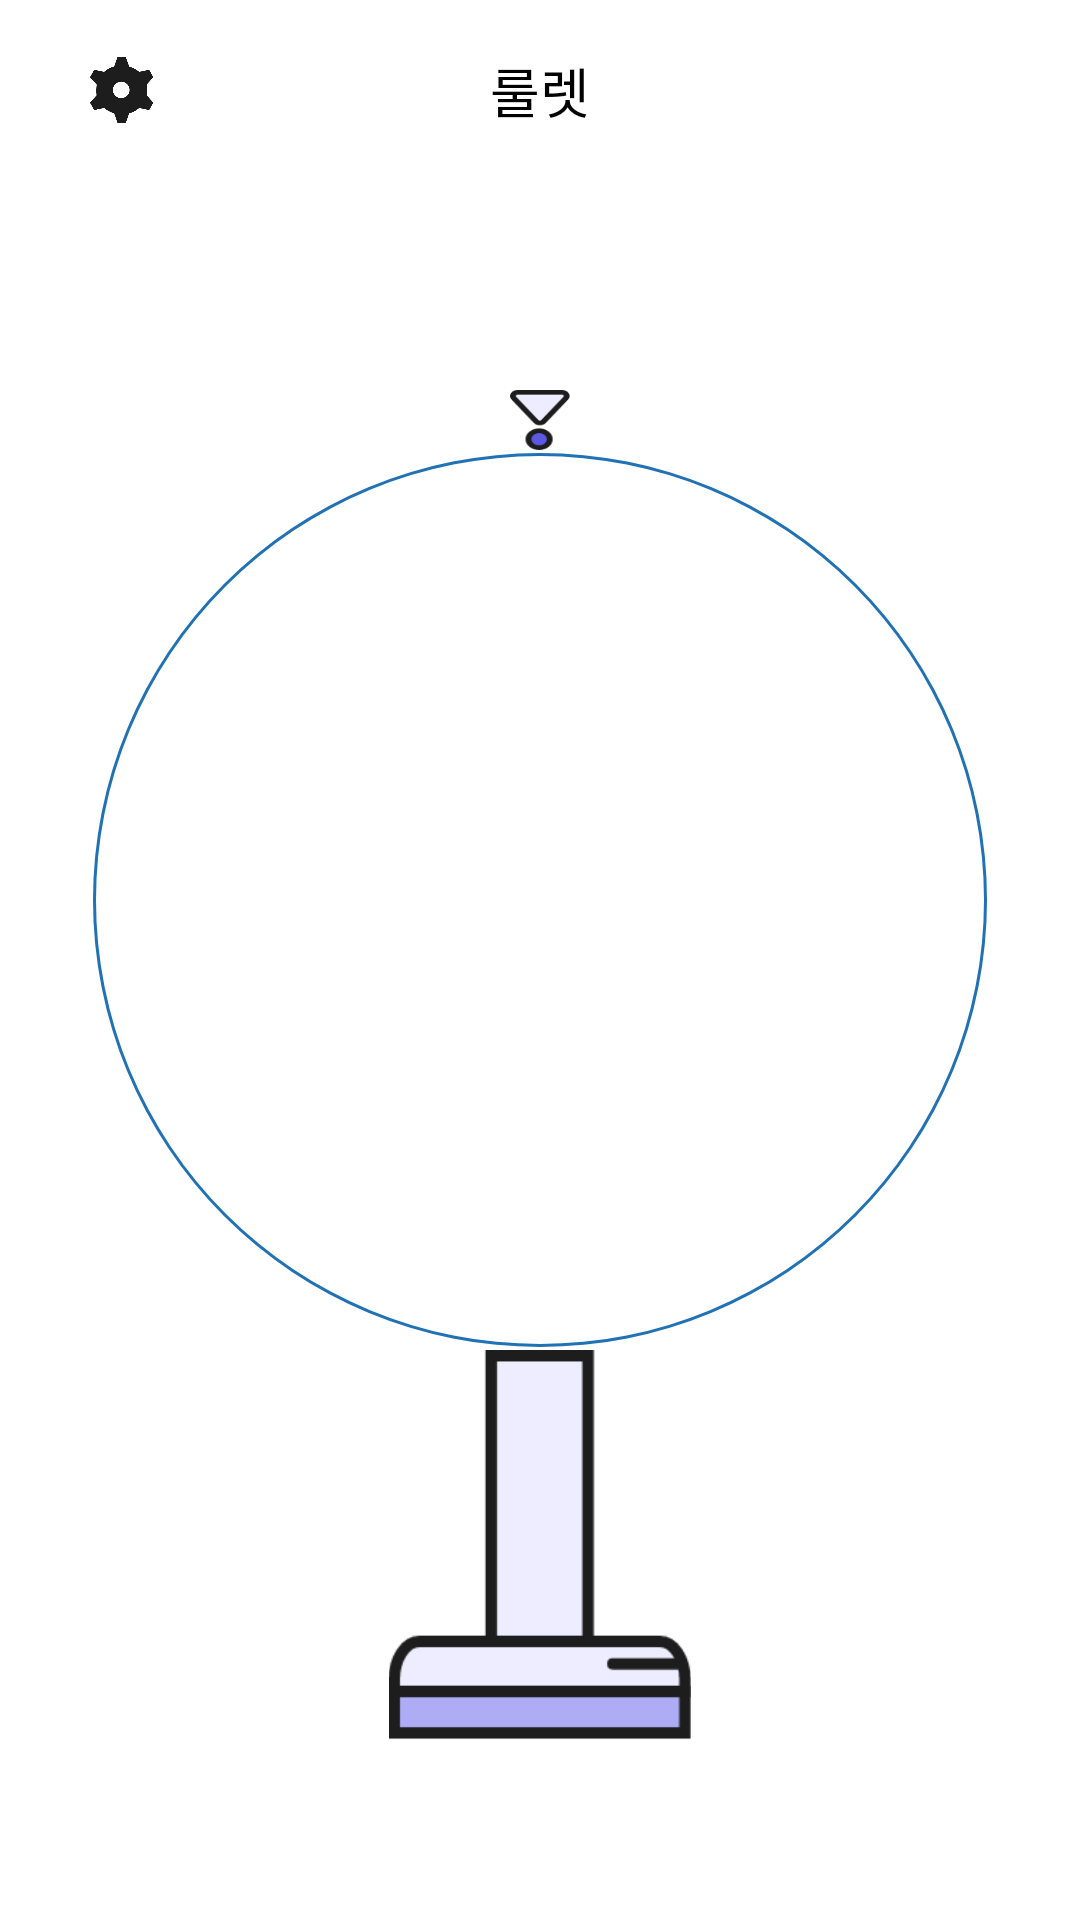

Icon click points for this 1080px x 1920px phone screenshot, format (x,y):
setting: (121,90)
